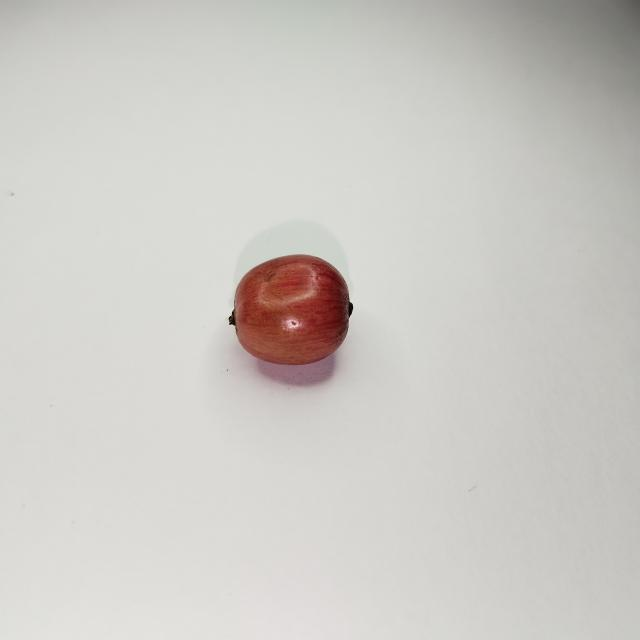Sano: (229, 255, 353, 373)
